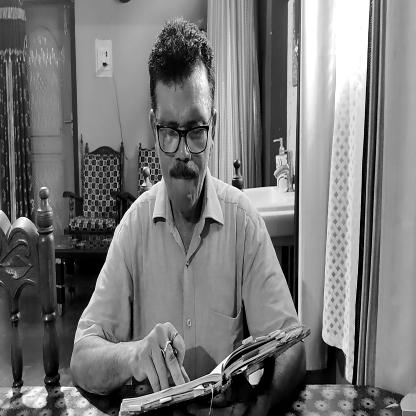Normal: (148, 20, 214, 212)
